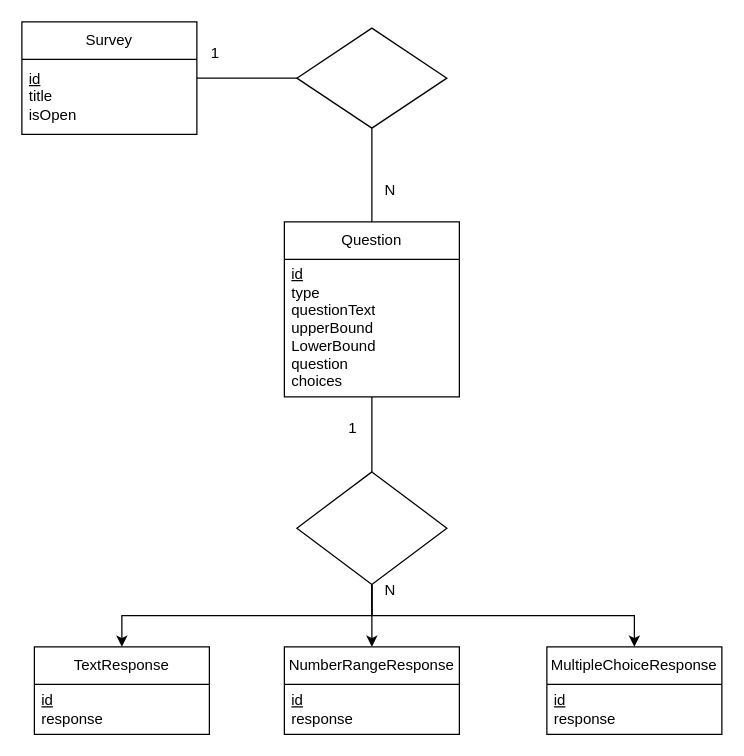
Image size: 744x756. Some labels were removed from this diagram. The centre of each missing label's shape, as x and y in pixels:
"Holds Questions" belongs at (x=371, y=77).
"Holds Responses" belongs at (x=371, y=527).
